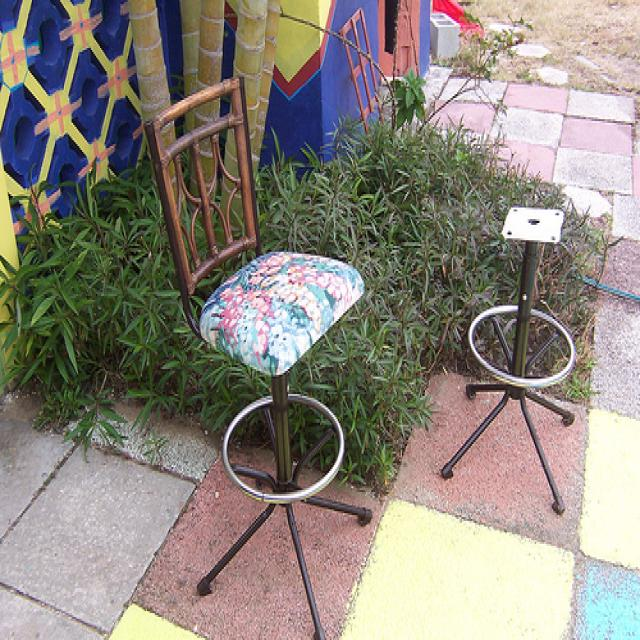chair: (142, 74, 373, 639)
